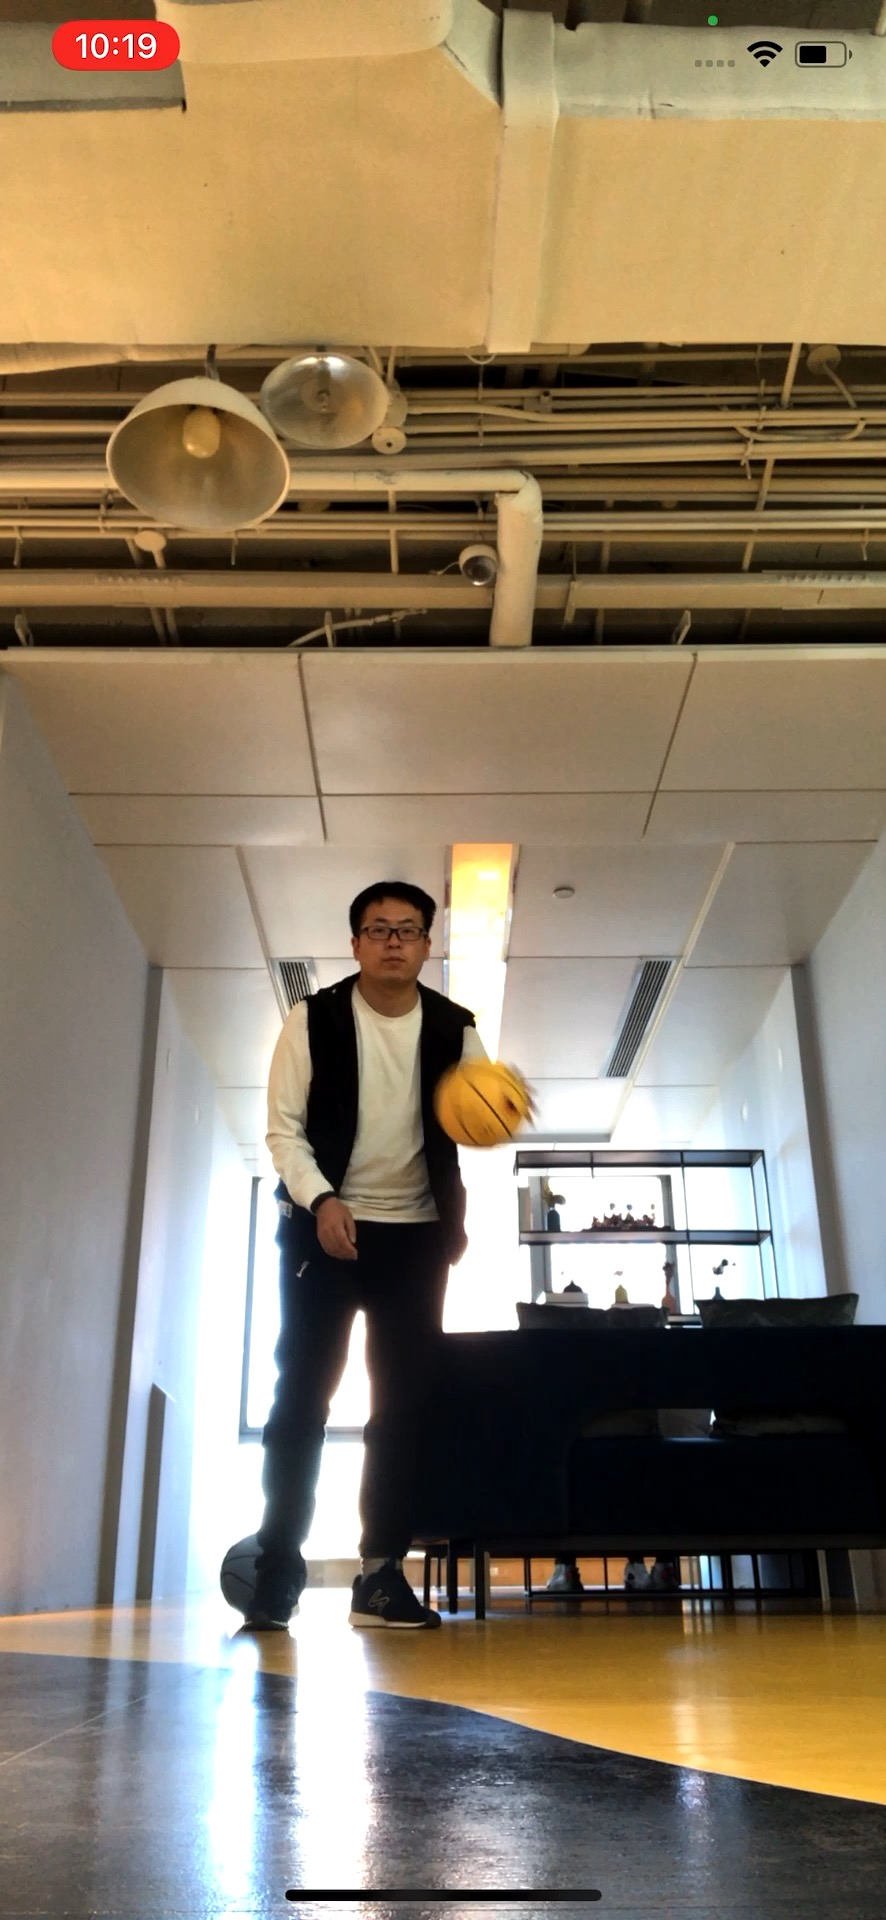ball: (434, 1056, 531, 1147)
